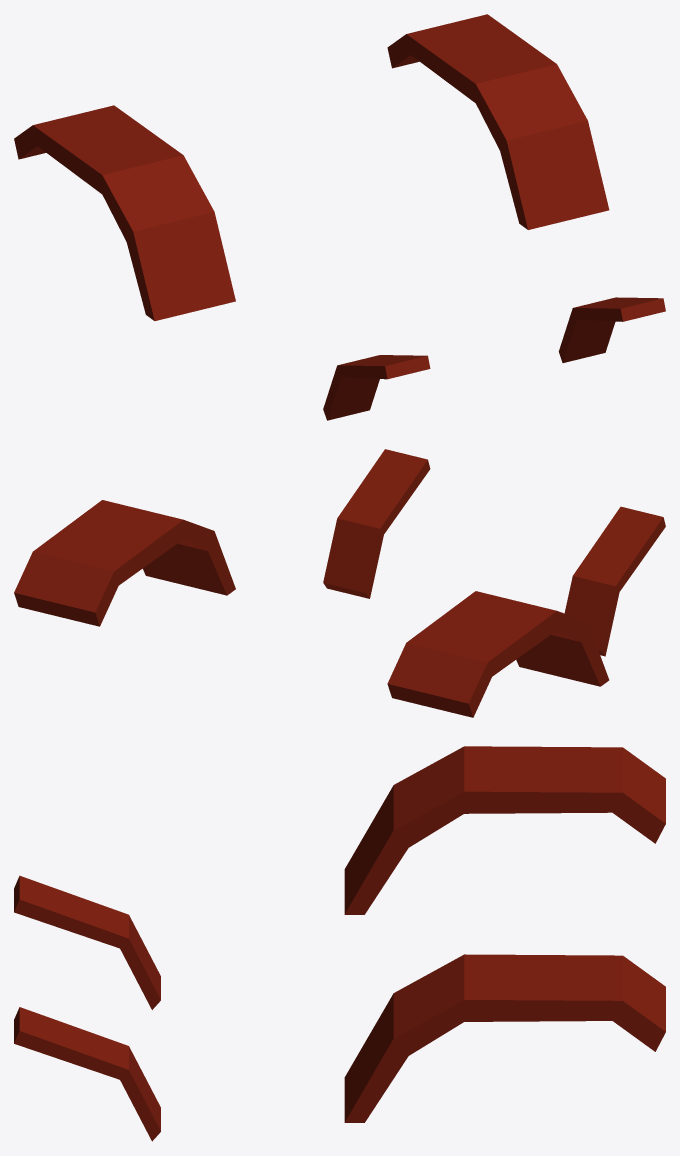
File: wheelGuards2.glb
3 views of the same model, one above another, from view 1: azimuth 30°, elevation 25°; view 2: azimuth 150°, elevation 25°; view 3: azimuth 270°, elevation 25° (orthographic). The views are drawn at different scales.
Parts seen in each view (by area): view 1: wheelGuards2; view 2: wheelGuards2; view 3: wheelGuards2.
Part boxes in pixels (x1,y1,x2,y2): wheelGuards2: [14, 14, 665, 420]; wheelGuards2: [14, 449, 665, 717]; wheelGuards2: [14, 746, 665, 1141].
Size of the model in its own units: 4.34 by 1.53 by 4.72.
Materials: 1 (1 with a texture image).
